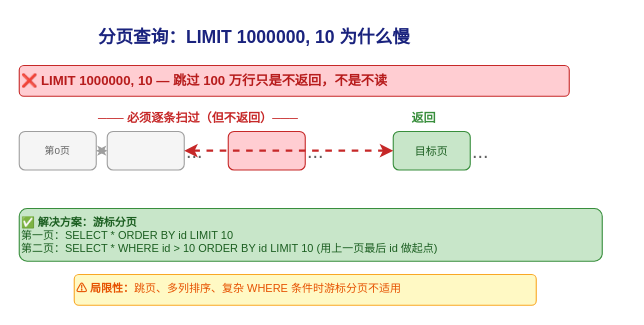
Some shapes in this 644 by 325 pixel diagram are drawn without their labels. Here are the shapes that lost their labels. From the top down, the centre of each, then its label:
point 145,150: 第1页
point 266,150: 第N页
